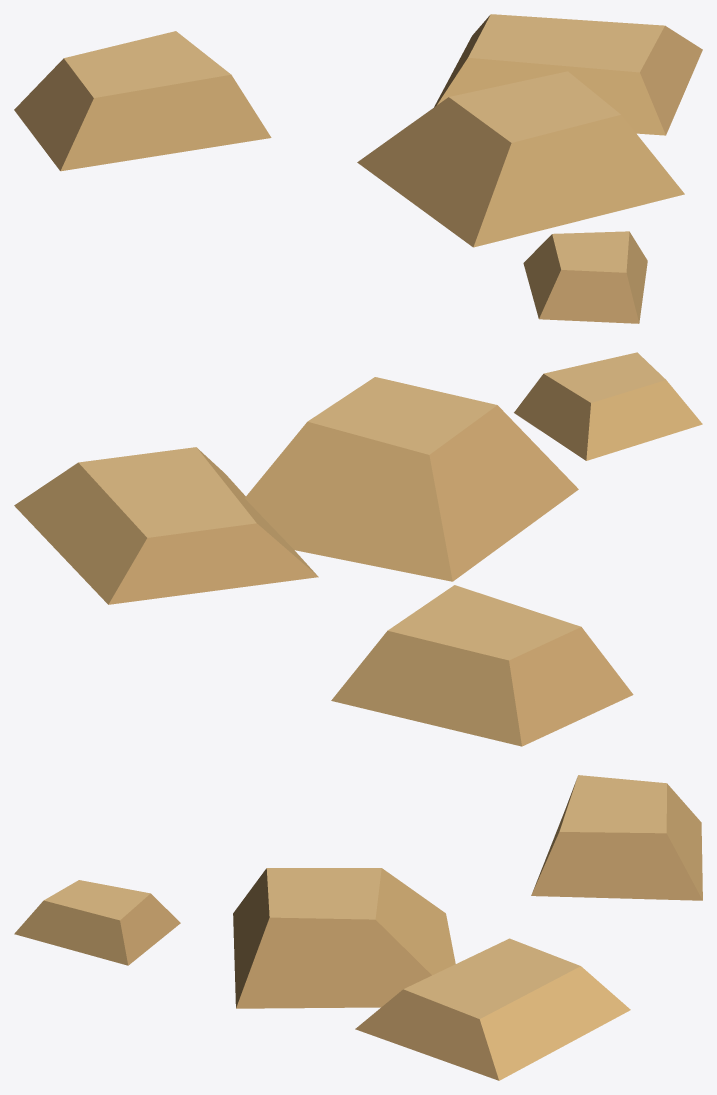
File: ST_Prop_Rocks_01.fbx
The picture shows the model from 3 angles, top to bottom: view 1: azimuth 30°, elevation 25°; view 2: azimuth 150°, elevation 25°; view 3: azimuth 270°, elevation 25°; orthographic projection. The views are drawn at different scales.
Parts seen in each view (by area): view 1: ST_Prop_Rocks_01; view 2: ST_Prop_Rocks_01; view 3: ST_Prop_Rocks_01.
Part boxes in pixels (x1,y1,x2,y2): ST_Prop_Rocks_01: [14, 14, 702, 323]; ST_Prop_Rocks_01: [14, 352, 702, 746]; ST_Prop_Rocks_01: [14, 775, 702, 1080].
Size of the model in its own units: 1.51 by 0.1834 by 1.62.
